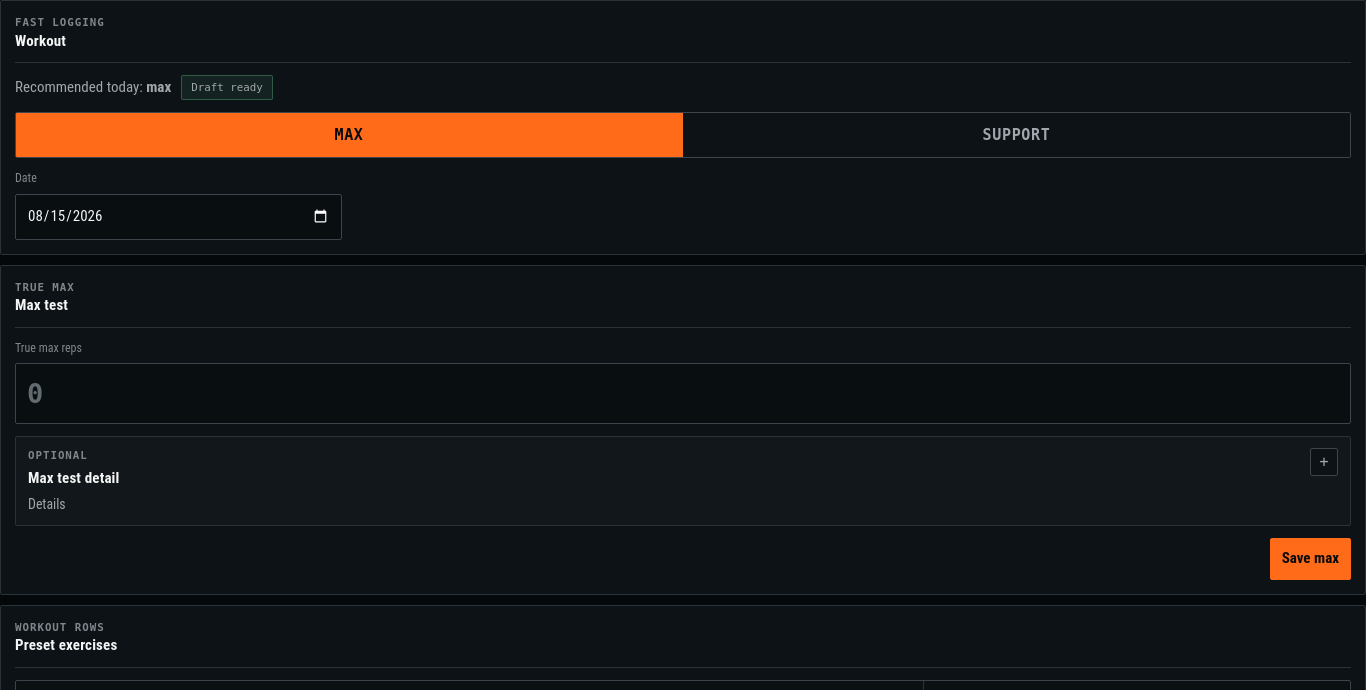
Test case: LogWorkoutScreen preset rows › does not warn when switching session type with untouched preset rows
Click the button "support".
click(1016, 135)  # box [683,113,1350,157]
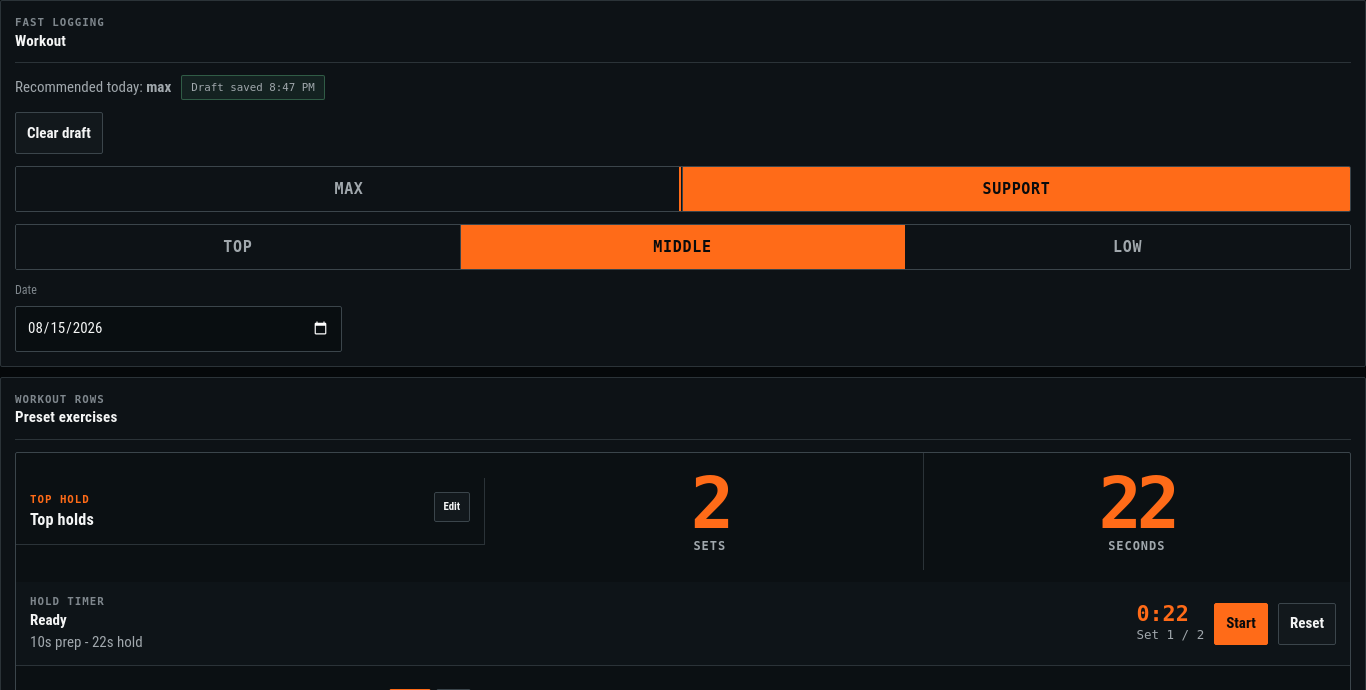
expect the element named "2x22s hold" is shown: met, box [497,453,1175,570]
